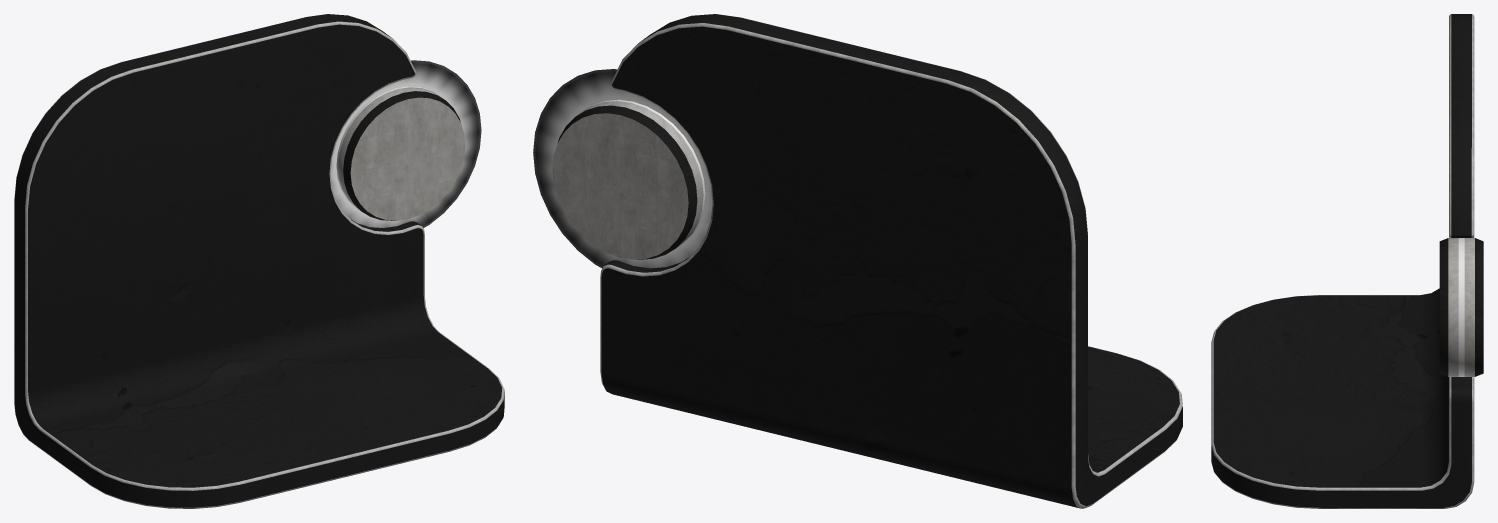
Rendered from Wall_01.fbx.
3 renders of one model, left to right at view 1: azimuth 30°, elevation 25°; view 2: azimuth 150°, elevation 25°; view 3: azimuth 270°, elevation 25°, orthographic. The views are drawn at different scales.
Visible parts, largest first — view 1: Wall_01; view 2: Wall_01; view 3: Wall_01.
Part boxes in pixels (x1,y1,x2,y2): Wall_01: (14,14,504,508); Wall_01: (533,14,1182,508); Wall_01: (1211,14,1483,508).
Size of the model in its own units: 4.22 by 3 by 2.16.
